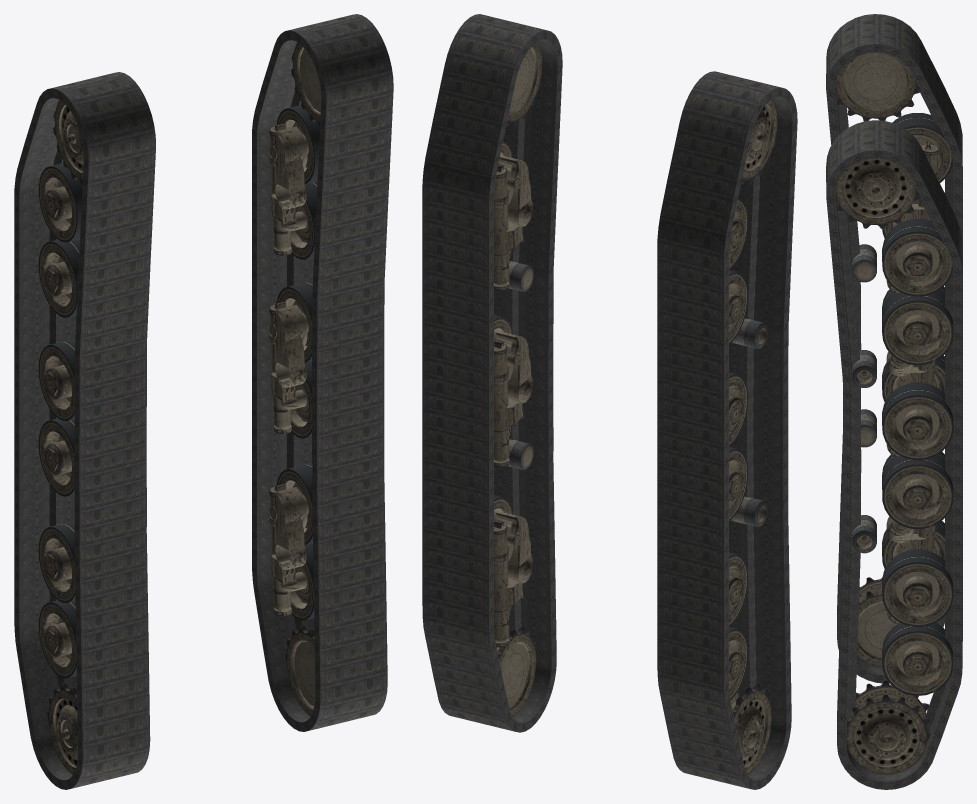
Rendered from Chassis.glb.
The picture shows the model from 3 angles, left to right: view 1: azimuth 30°, elevation 25°; view 2: azimuth 150°, elevation 25°; view 3: azimuth 270°, elevation 25°; orthographic projection. The views are drawn at different scales.
Visible parts, largest first — view 1: set_0_group_0, set_1_group_0, set_3_group_0, set_2_group_0; view 2: set_0_group_0, set_1_group_0, set_3_group_0, set_2_group_0; view 3: set_3_group_0, set_1_group_0, set_2_group_0, set_0_group_0.
Part boxes in pixels (left/top/right/bottom): set_0_group_0: left=14, top=72, right=155, bottom=789; set_1_group_0: left=252, top=14, right=393, bottom=731; set_3_group_0: left=269, top=42, right=321, bottom=715; set_2_group_0: left=38, top=100, right=83, bottom=774; set_0_group_0: left=657, top=71, right=797, bottom=789; set_1_group_0: left=422, top=14, right=562, bottom=732; set_3_group_0: left=494, top=42, right=542, bottom=716; set_2_group_0: left=729, top=99, right=777, bottom=774; set_3_group_0: left=835, top=158, right=953, bottom=774; set_1_group_0: left=826, top=120, right=962, bottom=789; set_2_group_0: left=835, top=52, right=952, bottom=667; set_0_group_0: left=826, top=14, right=962, bottom=683.
Size of the model in its own units: 3.17 by 6.94 by 1.34.
Materials: 4 (4 with a texture image).
